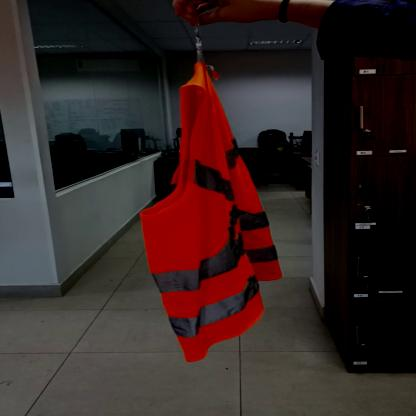colete: (134, 63, 296, 364)
